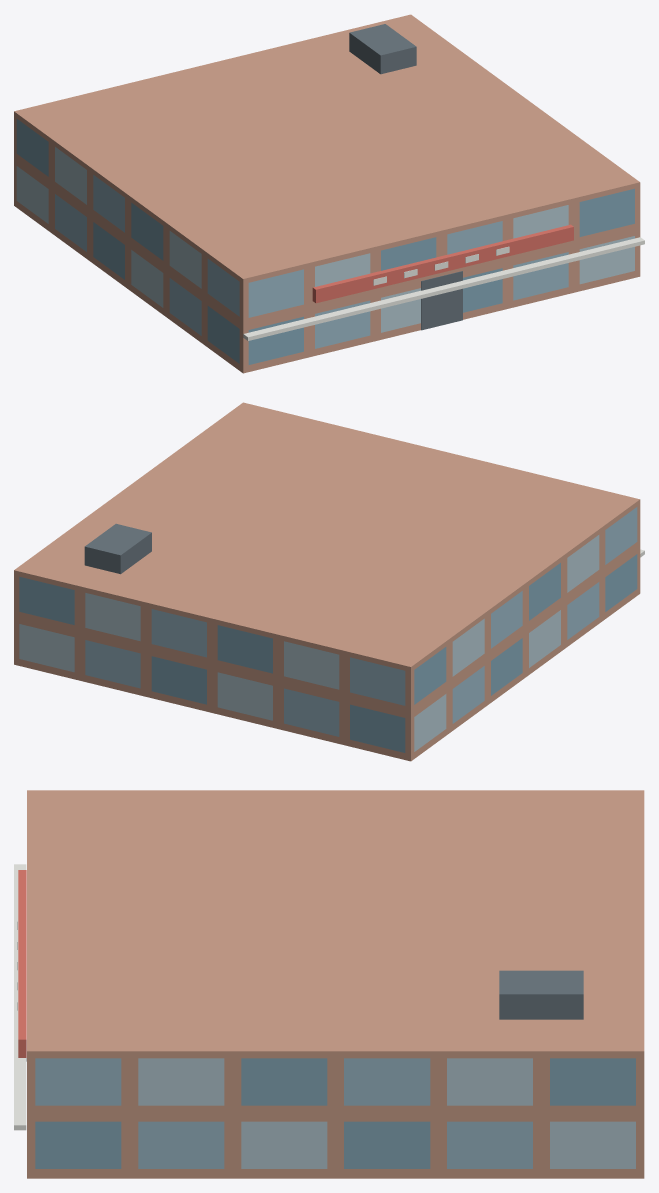
Rendered from korea-building-0.glb.
The picture shows the model from 3 angles, top to bottom: view 1: azimuth 30°, elevation 25°; view 2: azimuth 150°, elevation 25°; view 3: azimuth 270°, elevation 25°; orthographic projection. The views are drawn at different scales.
Bounding box in the file's own units: 11.02 × 3 × 11.24.
